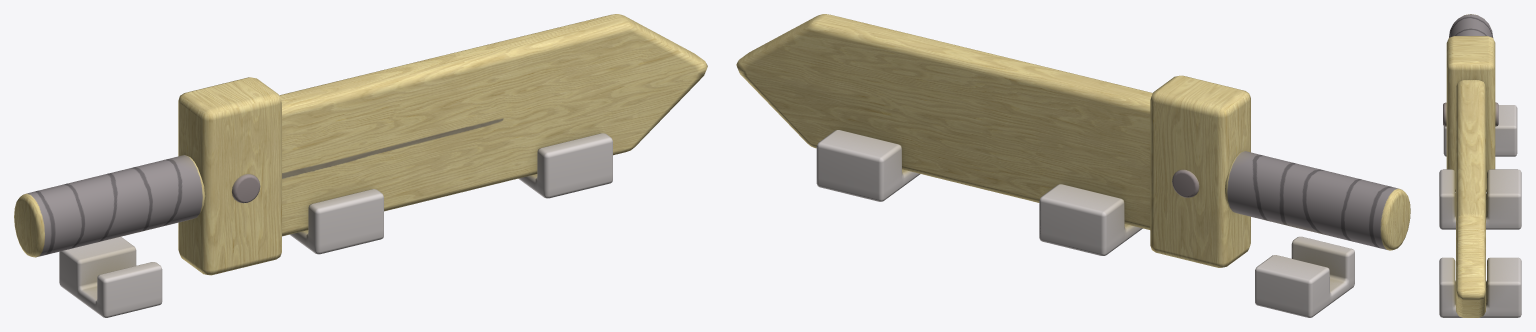
File: prp_toySword_model.FBX
The picture shows the model from 3 angles, left to right: view 1: azimuth 30°, elevation 25°; view 2: azimuth 150°, elevation 25°; view 3: azimuth 270°, elevation 25°; orthographic projection. The views are drawn at different scales.
Parts seen in each view (by area): view 1: prp_toySword_model; view 2: prp_toySword_model; view 3: prp_toySword_model.
Part boxes in pixels (box(x1,y1,x2,y2)): prp_toySword_model: box(14, 14, 707, 317); prp_toySword_model: box(736, 14, 1410, 317); prp_toySword_model: box(1439, 14, 1521, 317).
Size of what is drawn, in the model's own units: 55.64 by 7.44 by 14.1.
